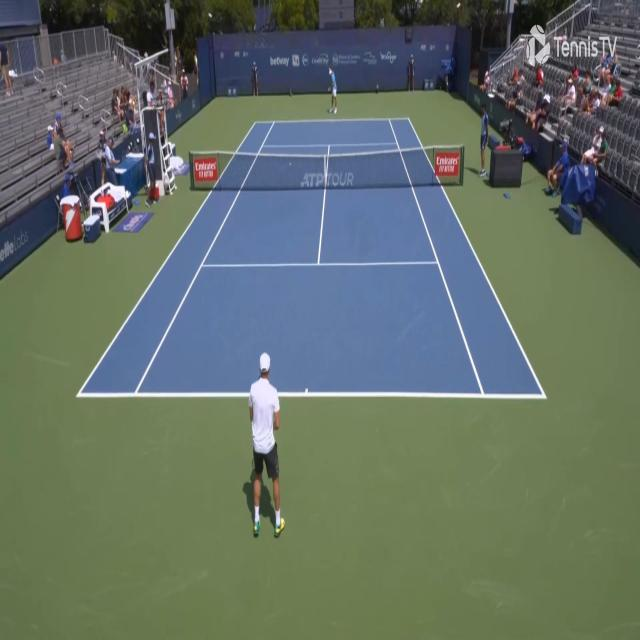tennis-player: (240, 346, 290, 542), (326, 65, 338, 115)
